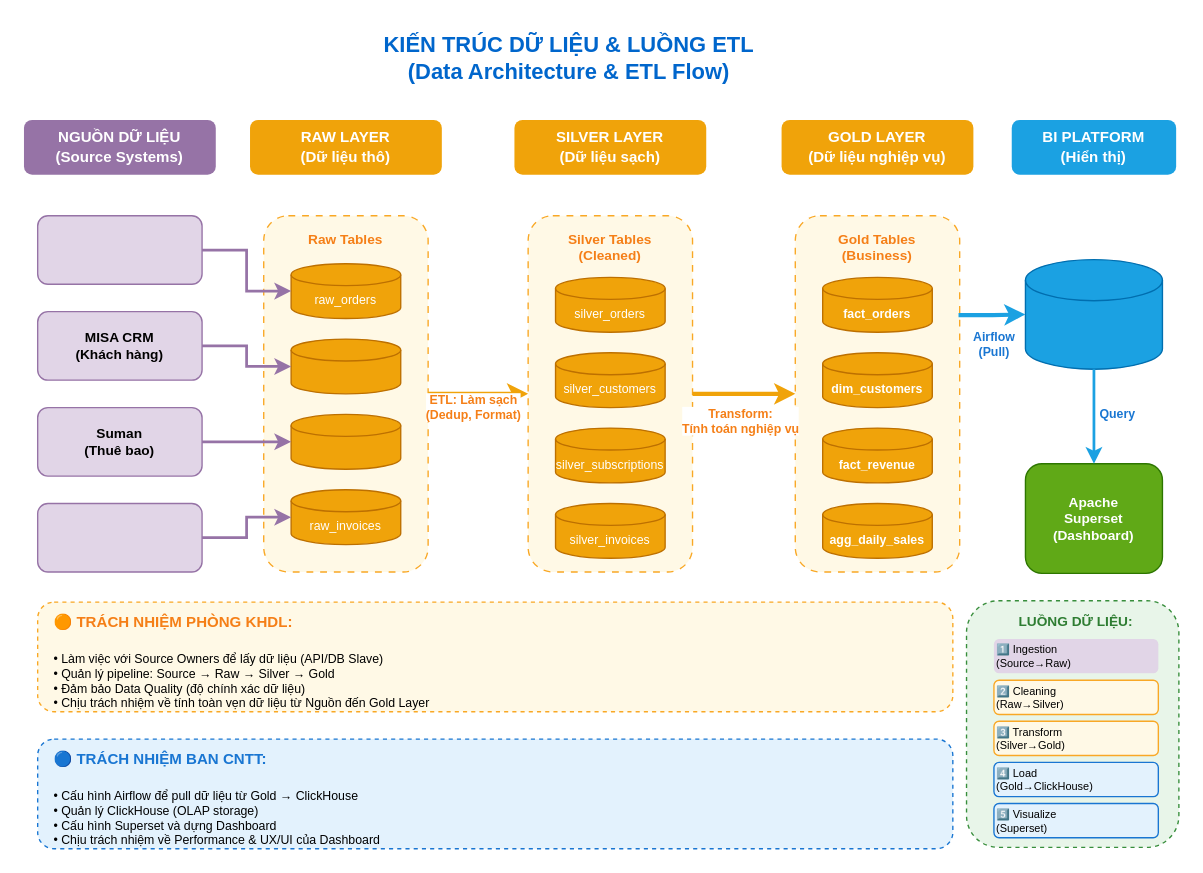
Image size: 1203x873. Some labels were removed from this diagram. Each missing label, with the centre of its shape:
"ClickHouse (OLAP)" goes at point 1093,313.
"Kế toán (Tài chính)" goes at point 119,537.
"MISA Store (Đơn hàng)" goes at point 119,249.
"raw_customers" goes at point 345,366.
"raw_subscriptions" goes at point 345,441.
